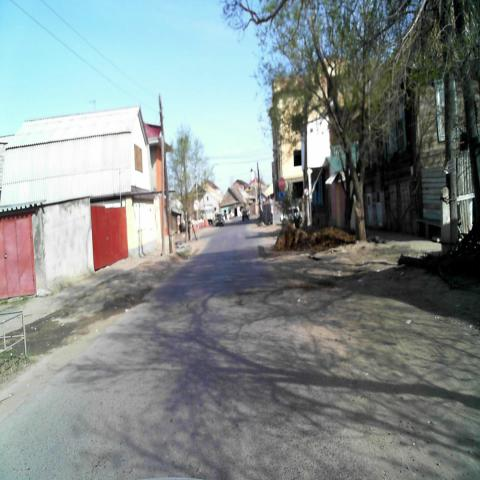2_5: (278, 175, 286, 190)
3_18_2: (193, 198, 200, 210)
